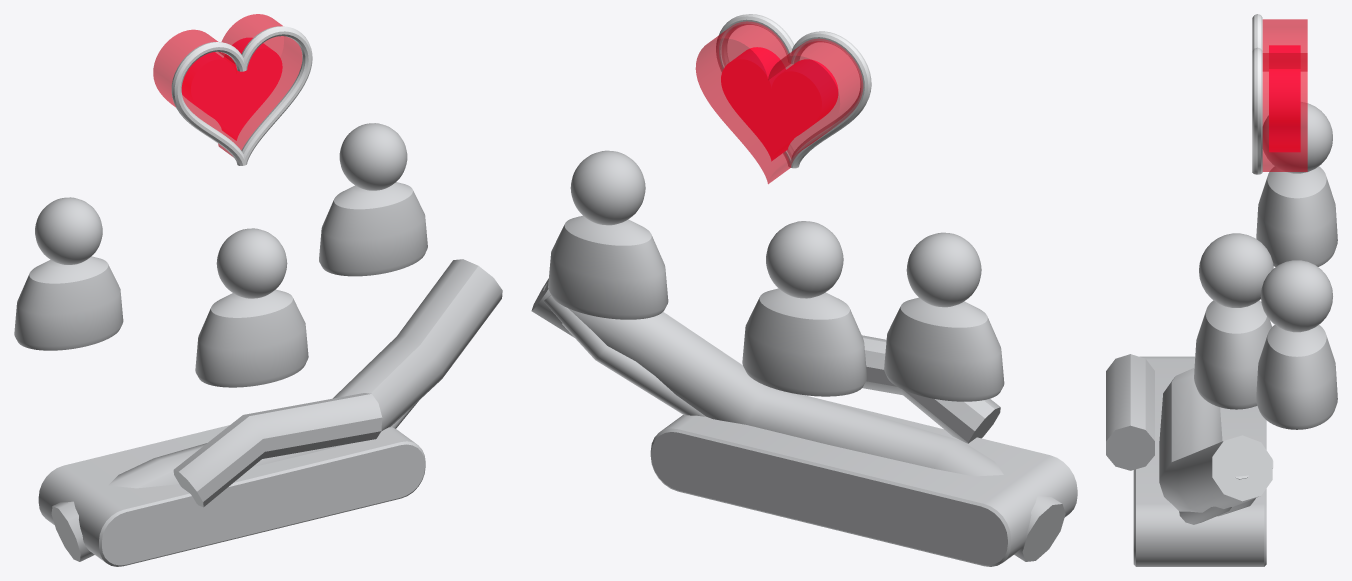
The model's file is 46-social-programs.glb.
3 renders of one model, left to right at view 1: azimuth 30°, elevation 25°; view 2: azimuth 150°, elevation 25°; view 3: azimuth 270°, elevation 25°, orthographic. The views are drawn at different scales.
Parts seen in each view (by area): view 1: BC satin iron, BC ruby optical glass, BC internal ruby light, BC polished iron bevel; view 2: BC satin iron, BC ruby optical glass, BC internal ruby light, BC polished iron bevel; view 3: BC satin iron, BC ruby optical glass, BC internal ruby light, BC polished iron bevel.
Part boxes in pixels (x1=…): BC satin iron: x1=14, y1=123, x2=502, y2=566; BC ruby optical glass: x1=153, y1=14, x2=302, y2=157; BC internal ruby light: x1=181, y1=37, x2=282, y2=140; BC polished iron bevel: x1=171, y1=26, x2=312, y2=165; BC satin iron: x1=531, y1=150, x2=1077, y2=566; BC ruby optical glass: x1=695, y1=21, x2=862, y2=183; BC internal ruby light: x1=721, y1=47, x2=838, y2=161; BC polished iron bevel: x1=716, y1=14, x2=871, y2=168; BC satin iron: x1=1106, y1=102, x2=1337, y2=566; BC ruby optical glass: x1=1262, y1=19, x2=1307, y2=171; BC internal ruby light: x1=1269, y1=45, x2=1300, y2=152; BC polished iron bevel: x1=1252, y1=14, x2=1262, y2=174.
Size of the model in its own units: 1.84 by 1.78 by 0.766.
